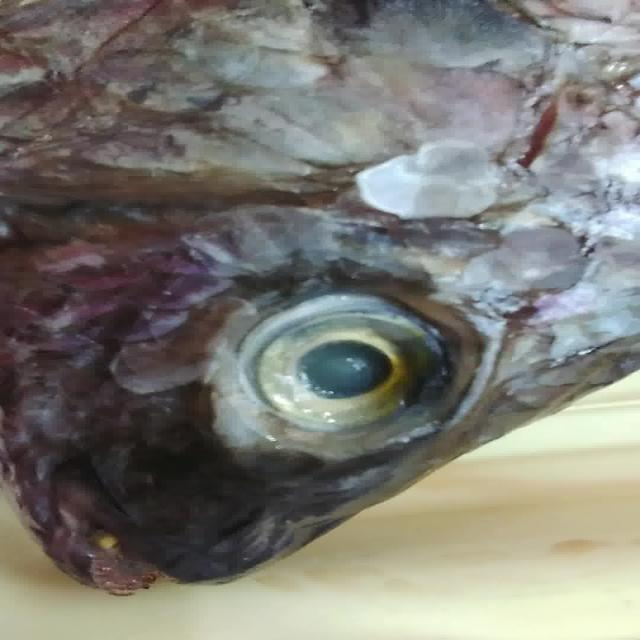Non-Fresh: (22, 6, 616, 264), (200, 270, 480, 466)
